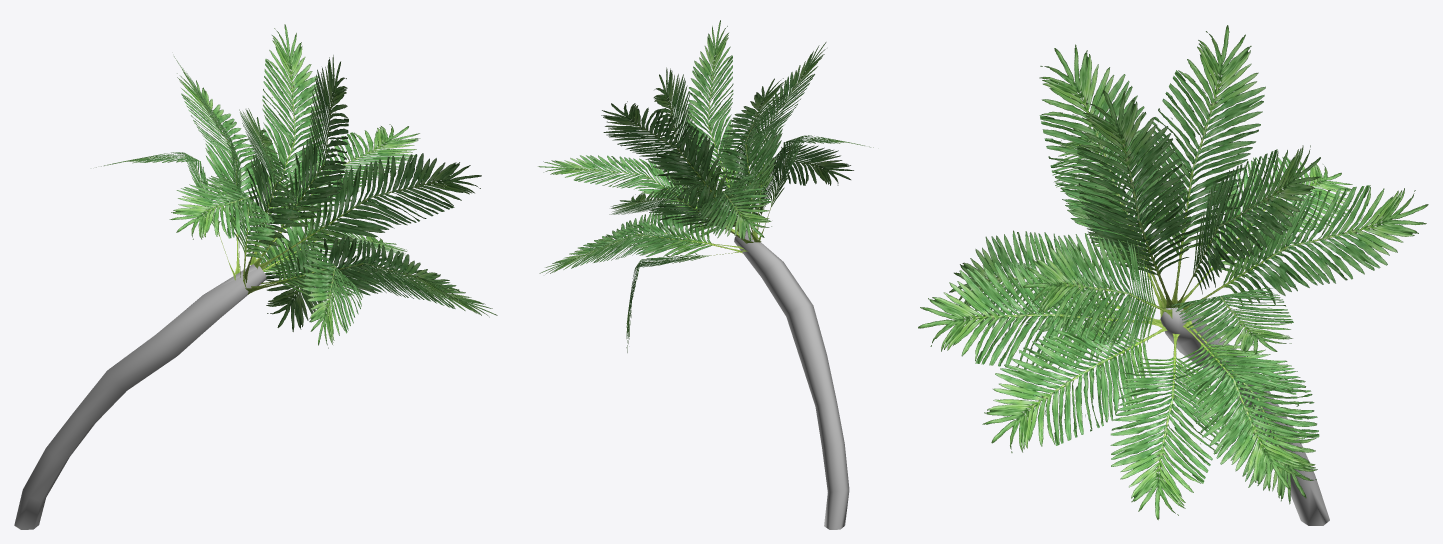
The model's file is HyV3_2s_LOD1.fbx.
3 views of the same model, side by side, from view 1: azimuth 30°, elevation 25°; view 2: azimuth 150°, elevation 25°; view 3: azimuth 270°, elevation 25° (orthographic). The views are drawn at different scales.
Parts seen in each view (by area): view 1: HyV3_LOD1; view 2: HyV3_LOD1; view 3: HyV3_LOD1.
Boxes of the visible parts, x1,y1,x2,y2 form: HyV3_LOD1: [14, 24, 497, 529]; HyV3_LOD1: [538, 20, 873, 529]; HyV3_LOD1: [918, 25, 1428, 525].
Bounding box in the file's own units: 875 × 1045 × 859.
